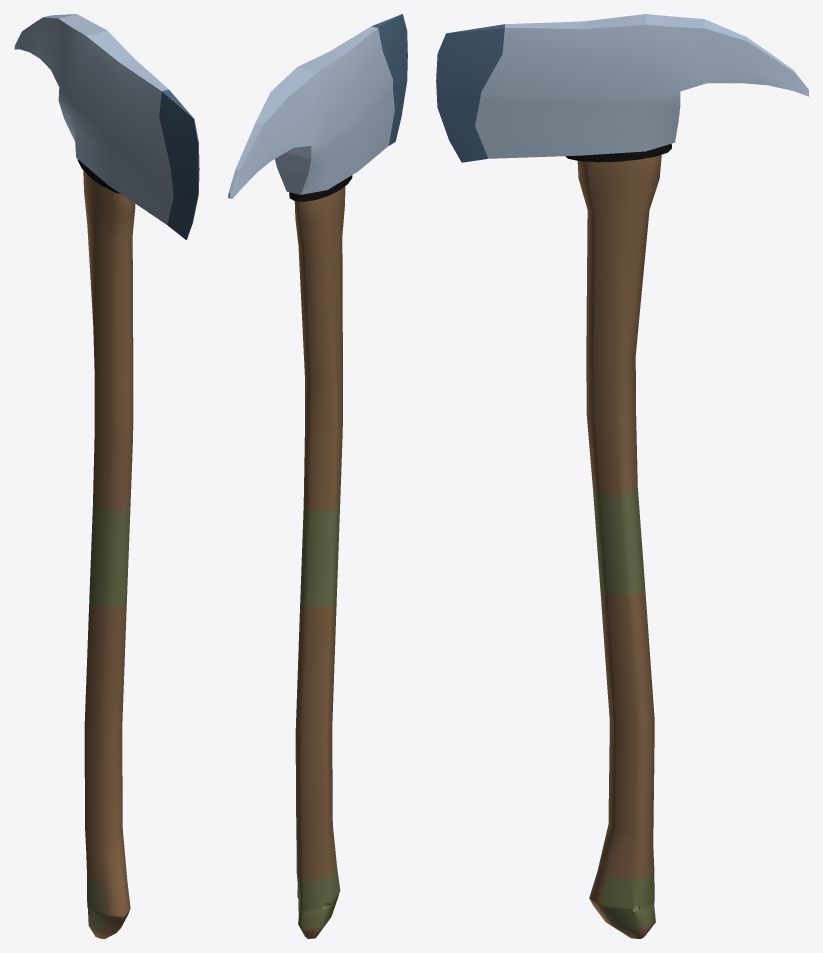
The model's file is Chall2.MakeYourOwn.MapExport.fbx.
3 views of the same model, side by side, from view 1: azimuth 30°, elevation 25°; view 2: azimuth 150°, elevation 25°; view 3: azimuth 270°, elevation 25° (orthographic). The views are drawn at different scales.
Parts seen in each view (by area): view 1: pCube3; view 2: pCube3; view 3: pCube3.
Boxes of the visible parts, bbox=[...] form: pCube3: bbox=[14, 14, 199, 938]; pCube3: bbox=[228, 14, 407, 938]; pCube3: bbox=[436, 14, 808, 938].
Bounding box in the file's own units: 1.01 × 20.77 × 7.65.
